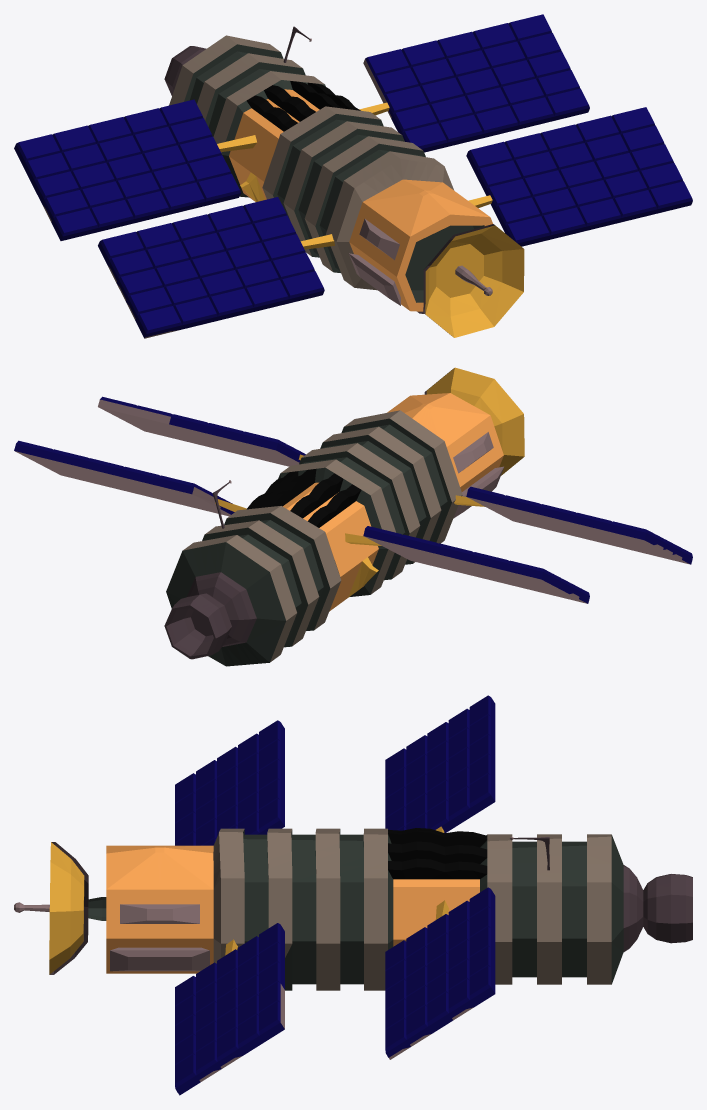
File: satelite.glb
3 views of the same model, one above another, from view 1: azimuth 30°, elevation 25°; view 2: azimuth 150°, elevation 25°; view 3: azimuth 270°, elevation 25° (orthographic). The views are drawn at different scales.
Visible parts, largest first — view 1: Satellite; view 2: Satellite; view 3: Satellite.
Part boxes in pixels (x1=…): Satellite: x1=14, y1=14, x2=692, y2=338; Satellite: x1=14, y1=367, x2=692, y2=666; Satellite: x1=14, y1=695, x2=692, y2=1095.
Size of the model in its own units: 8.67 by 2.27 by 8.27.
